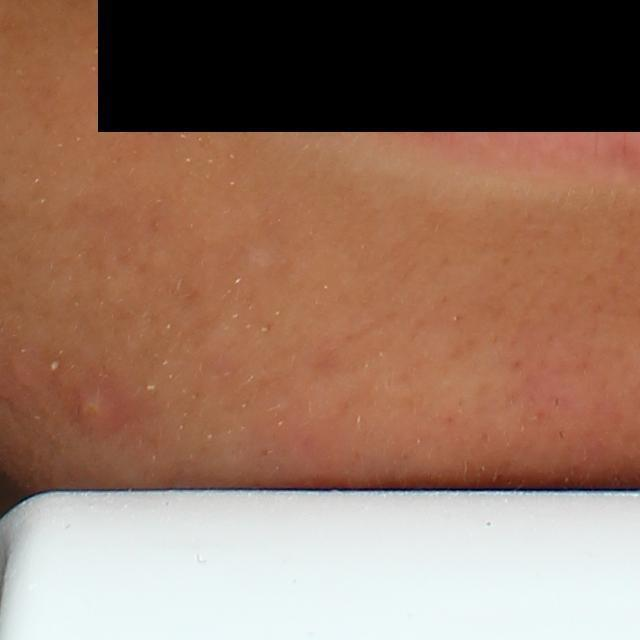hypertrophic_scar: (236, 244, 274, 278)
pustule: (63, 385, 126, 435)
